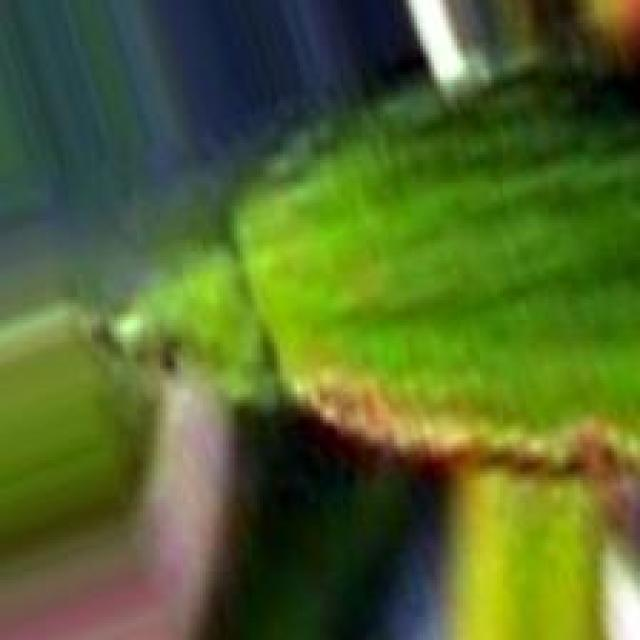Unhealthy: (290, 377, 640, 475)
